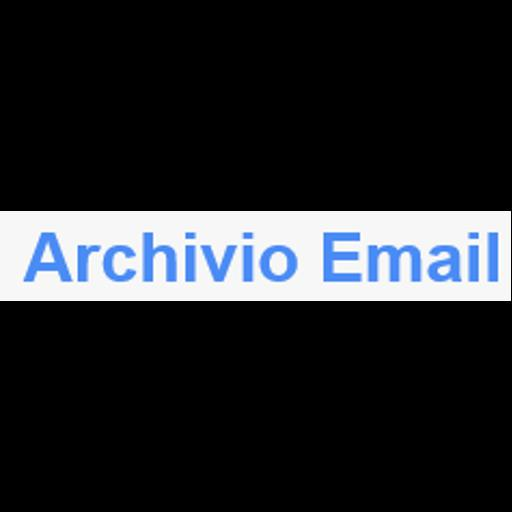PayPal: (0, 211, 511, 301)
